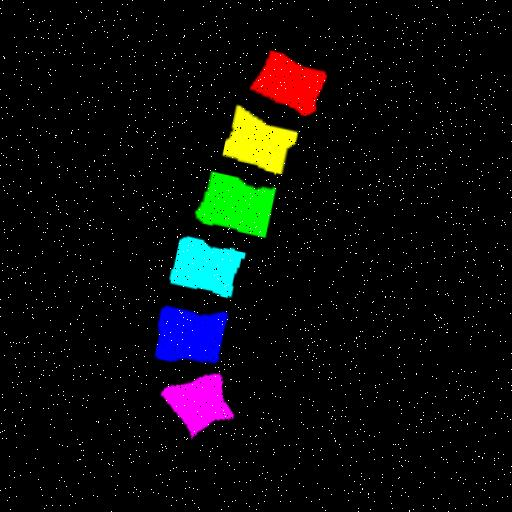L1: (251, 48, 325, 112)
L2: (223, 103, 298, 171)
L3: (197, 169, 277, 234)
L4: (172, 234, 246, 295)
L5: (158, 305, 230, 361)
S1: (163, 372, 236, 435)
